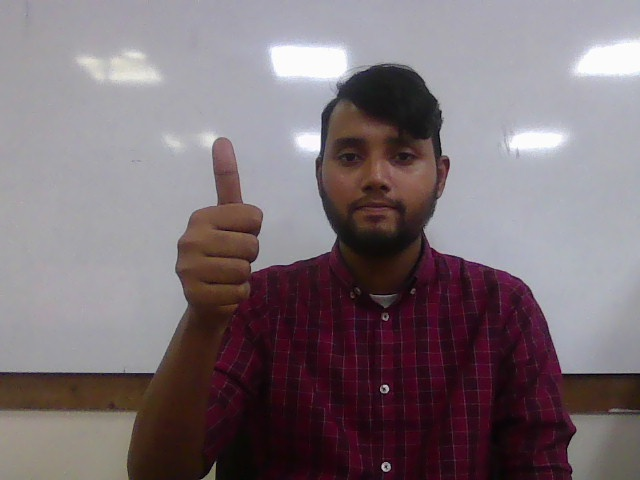Bhalo: (174, 137, 264, 322)
